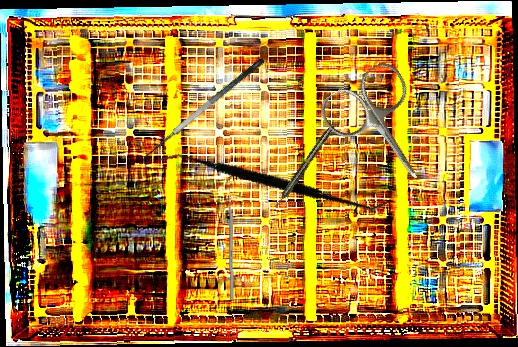Handpiece: (271, 122, 337, 211)
Iris Scissors: (314, 57, 453, 203)
Pusher: (227, 183, 235, 301)
Spatula Surgical: (156, 91, 393, 270), (134, 55, 274, 172)
